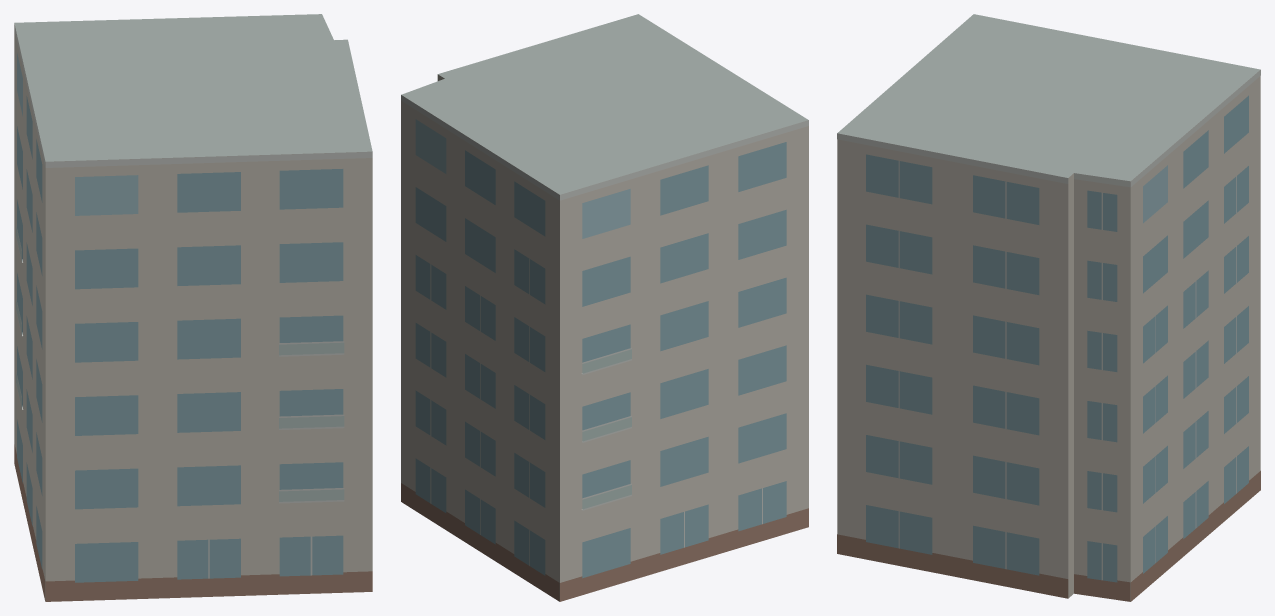
The model's file is survey-upis-32869393.glb.
The picture shows the model from 3 angles, left to right: view 1: azimuth 30°, elevation 25°; view 2: azimuth 150°, elevation 25°; view 3: azimuth 270°, elevation 25°; orthographic projection. The views are drawn at different scales.
Parts seen in each view (by area): view 1: survey-upis-32869393.tmp; view 2: survey-upis-32869393.tmp; view 3: survey-upis-32869393.tmp.
Part boxes in pixels (<box>): survey-upis-32869393.tmp: <box>14,14,372,601</box>; survey-upis-32869393.tmp: <box>401,14,808,601</box>; survey-upis-32869393.tmp: <box>837,14,1260,601</box>.
Size of the model in its own units: 14.51 by 17 by 15.53.
